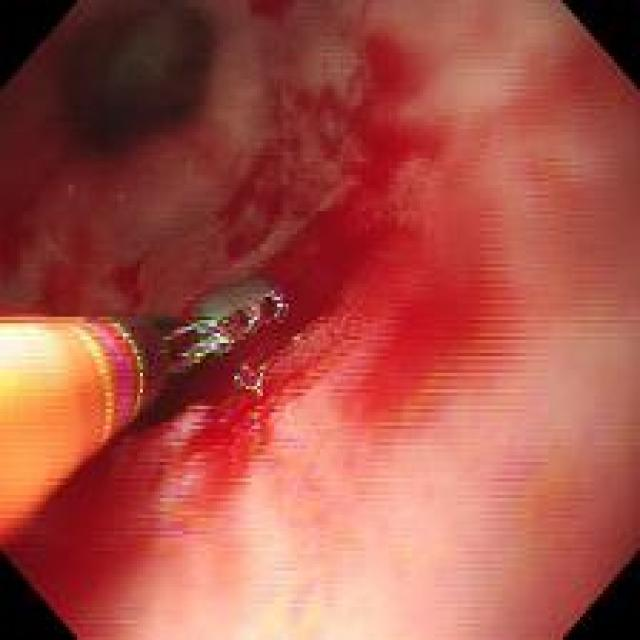blood: (192, 43, 475, 456)
color misalignment: (74, 315, 163, 448), (153, 455, 213, 549), (161, 318, 235, 375), (229, 285, 292, 341), (158, 400, 210, 456), (239, 410, 266, 461), (230, 360, 268, 394), (292, 330, 311, 350)
contrast: (50, 6, 210, 162)
instrument: (3, 286, 276, 556)
